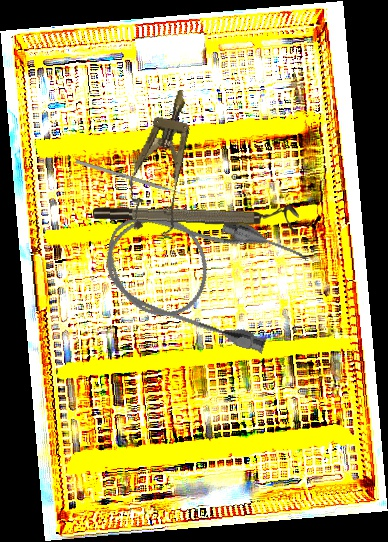Cannula: (91, 186, 311, 358)
Fixation Ring: (92, 194, 300, 234)
Pusher: (75, 159, 193, 199)
Speculum: (118, 83, 209, 240)
